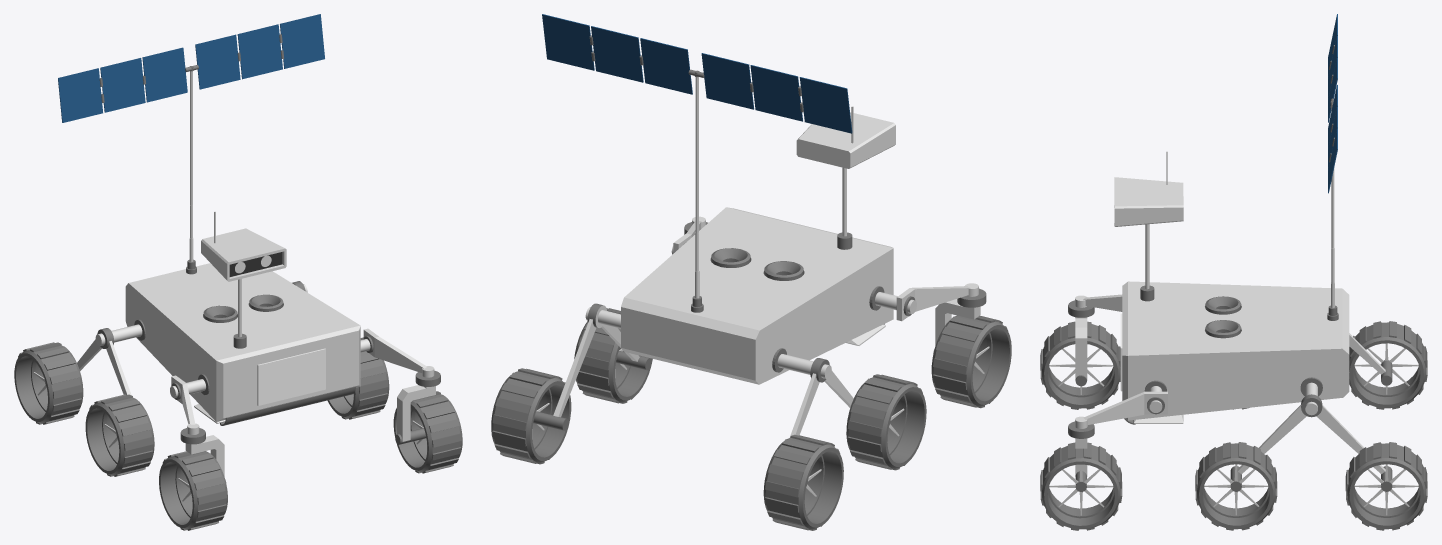
File: ScoutRover.fbx
3 views of the same model, side by side, from view 1: azimuth 30°, elevation 25°; view 2: azimuth 150°, elevation 25°; view 3: azimuth 270°, elevation 25° (orthographic). The views are drawn at different scales.
Parts seen in each view (by area): view 1: Cube.001, Circle.002; view 2: Cube.001, Circle.002; view 3: Cube.001, Circle.002.
Part boxes in pixels (box(x1,y1,x2,y2)): Cube.001: box(58, 14, 360, 425); Circle.002: box(14, 281, 462, 530); Cube.001: box(542, 14, 895, 384); Circle.002: box(491, 216, 1011, 530); Cube.001: box(1114, 14, 1349, 424); Circle.002: box(1040, 294, 1427, 530).
Bounding box in the file's own units: 98.39 × 127 × 116.
